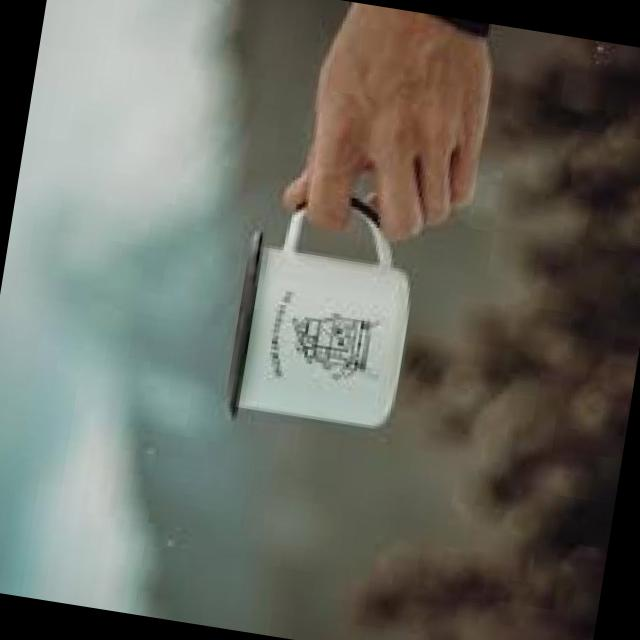Coffee Mug: (220, 184, 428, 441)
